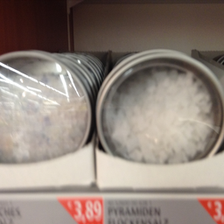spices: (96, 54, 224, 165), (1, 52, 91, 166)
